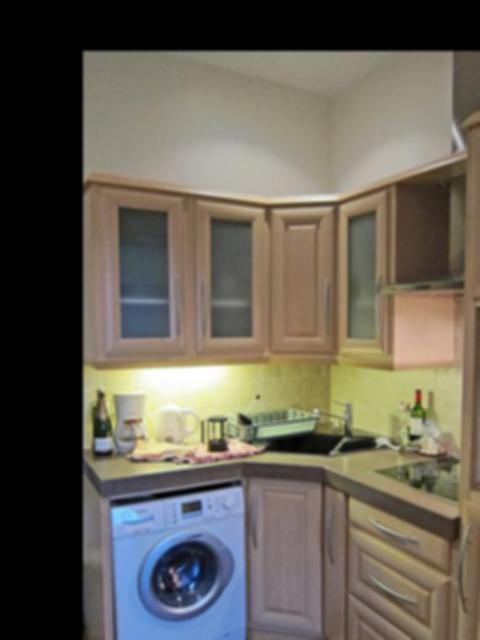Lavaplatos: (250, 403, 388, 464)
